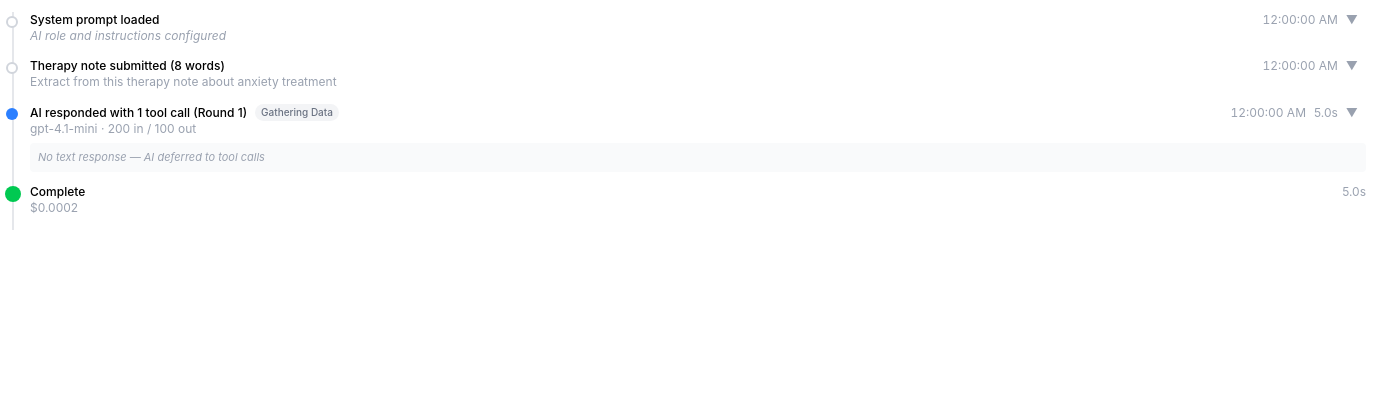
Test: ActivityView › nested tool card expands for long I/O
Click the text "AI responded with 1 tool call (Round 1)".
click(139, 113)  # box x1=30 y1=105 x2=247 y2=121
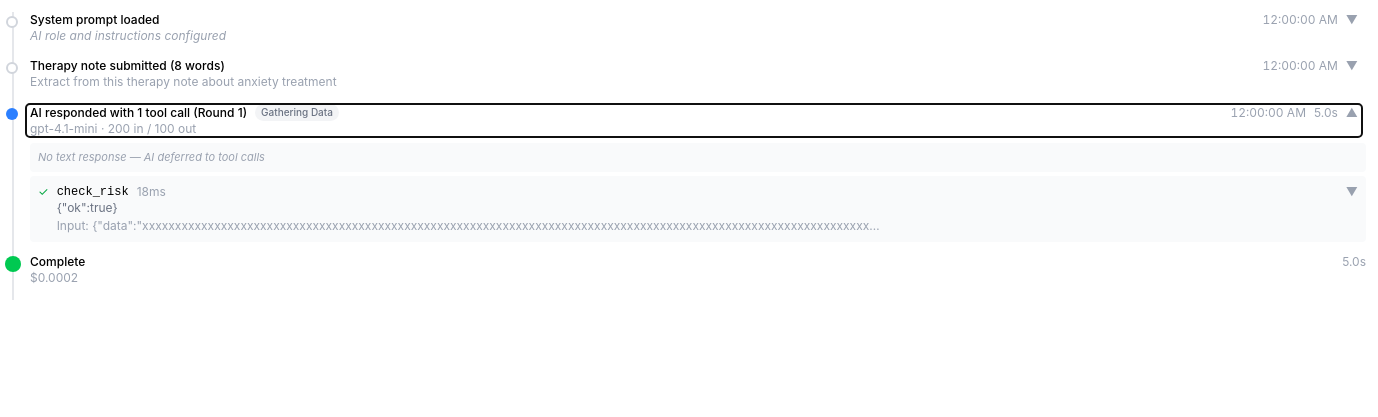
Expected: the button "check_risk" is shown
# Click to expand nested card
Click the button "check_risk".
click(93, 192)  # box x1=38 y1=184 x2=1358 y2=234
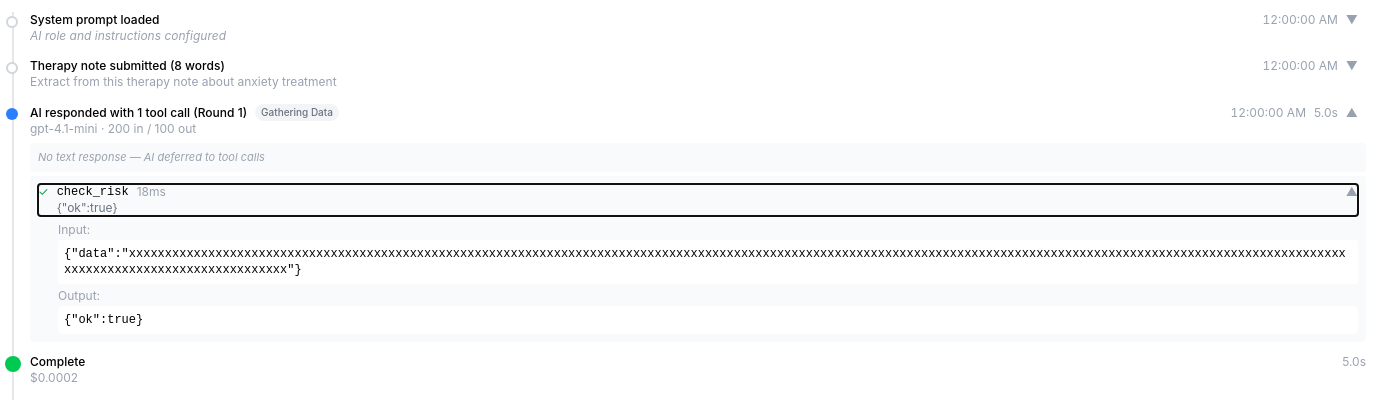
Expected: the text "Input:" is shown, x1=58 y1=222 x2=90 y2=237
Expected: the text "Output:" is shown, x1=58 y1=288 x2=100 y2=303
